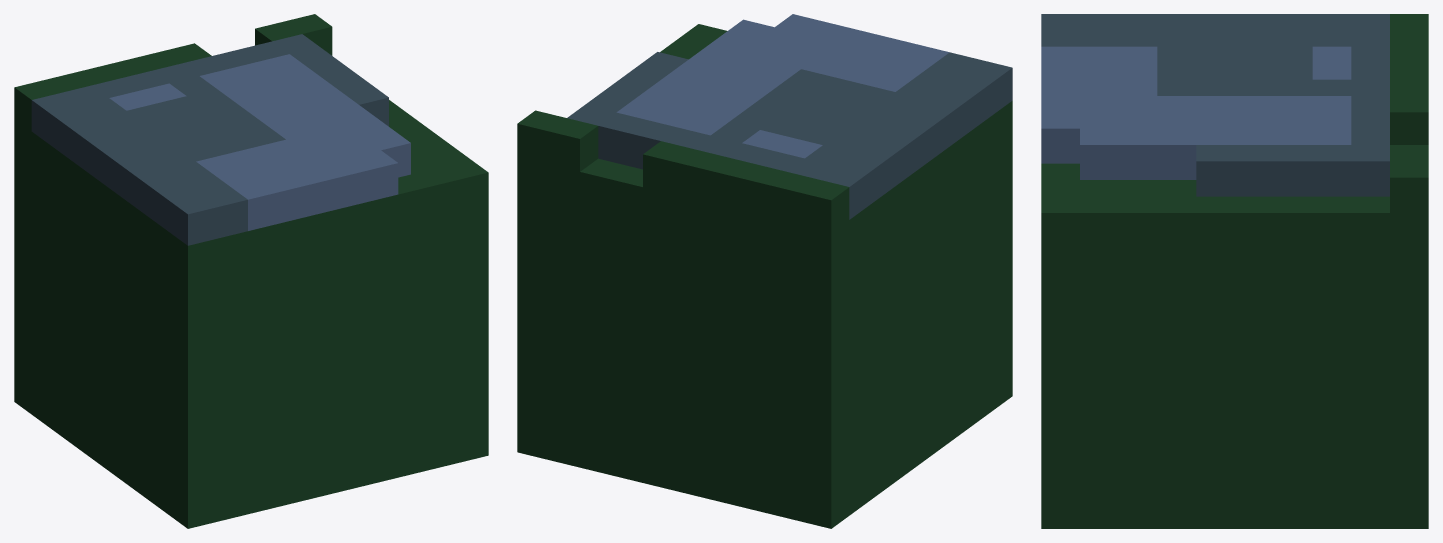
File: Floor 1.obj
3 views of the same model, side by side, from view 1: azimuth 30°, elevation 25°; view 2: azimuth 150°, elevation 25°; view 3: azimuth 270°, elevation 25° (orthographic). The views are drawn at different scales.
Bounding box in the file's own units: 10 × 10 × 10.
Materials: 1 (1 with a texture image).
